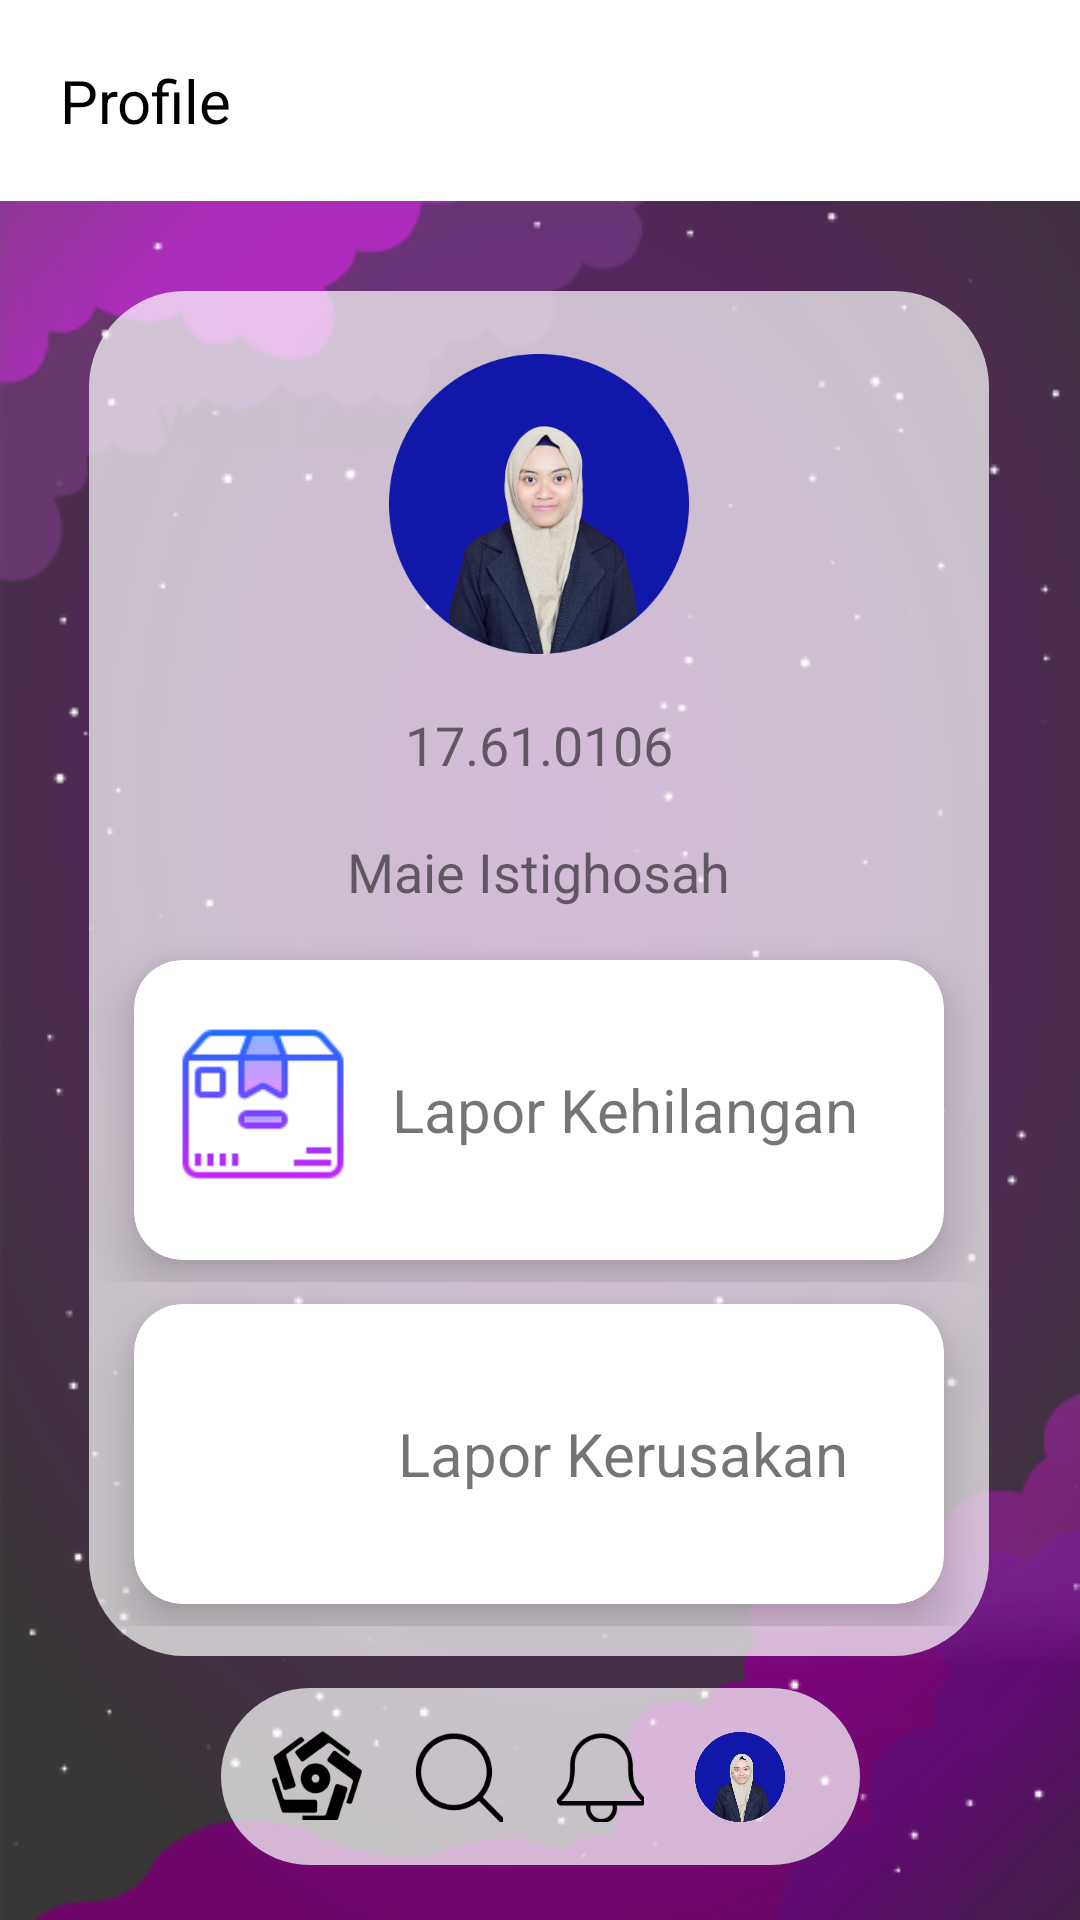

Named icons in this screenshot (1080*1920) and their bounding boxes, box=[x1, y1, x2, y2]:
notif: box=[557, 1733, 644, 1822]
search: box=[416, 1733, 503, 1822]
